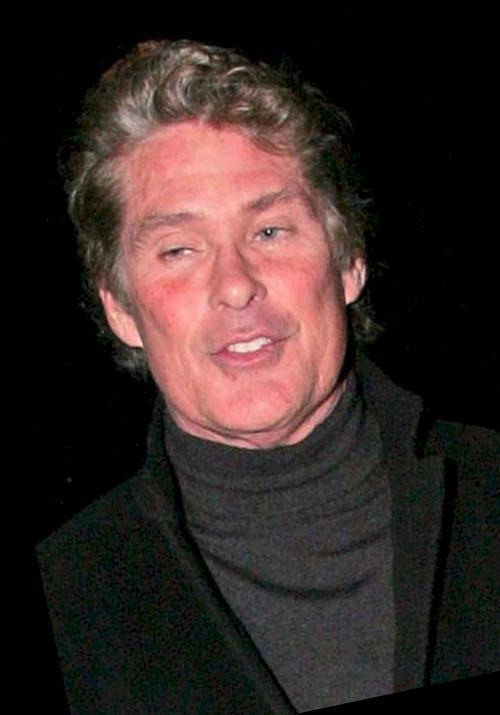Drunk: (129, 137, 329, 409)
